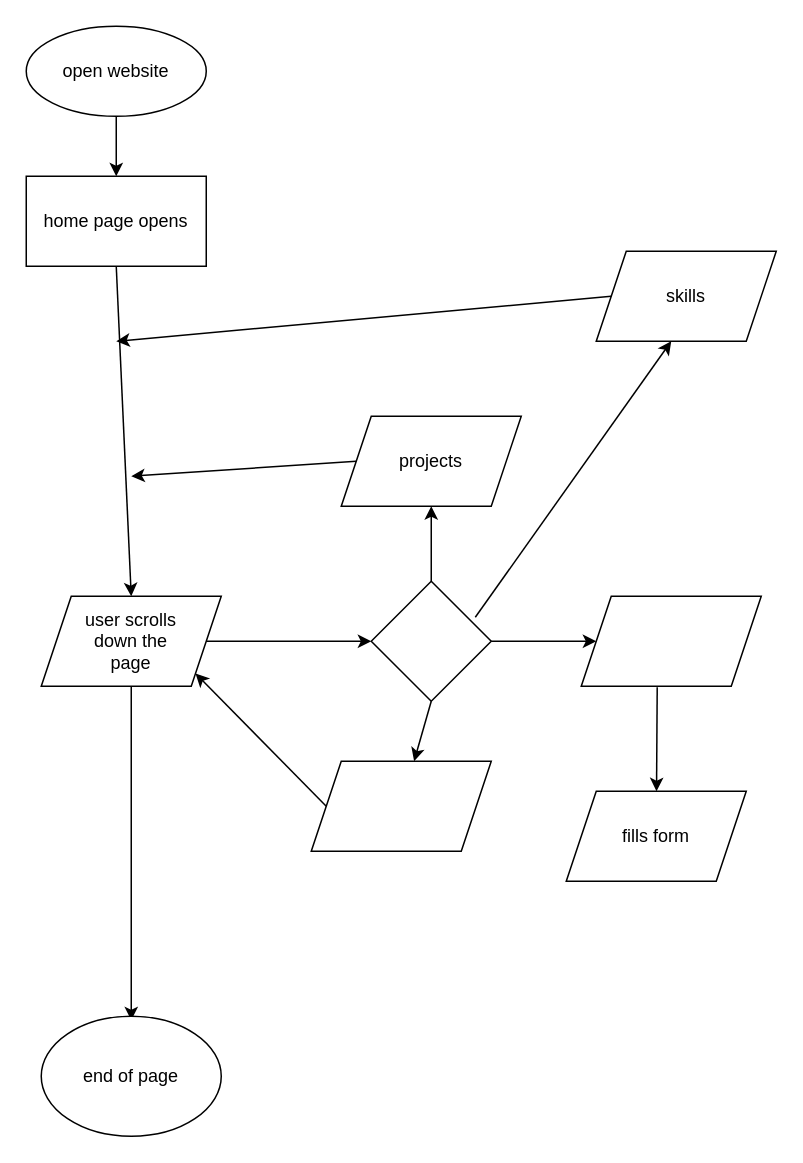
This 803x1163 diagram has some shape labels left out. Each missing label, with the centre of its shape:
"About me" belongs at (x=400, y=805).
"contact" belongs at (x=670, y=640).
"user clicks button" belongs at (x=430, y=640).
